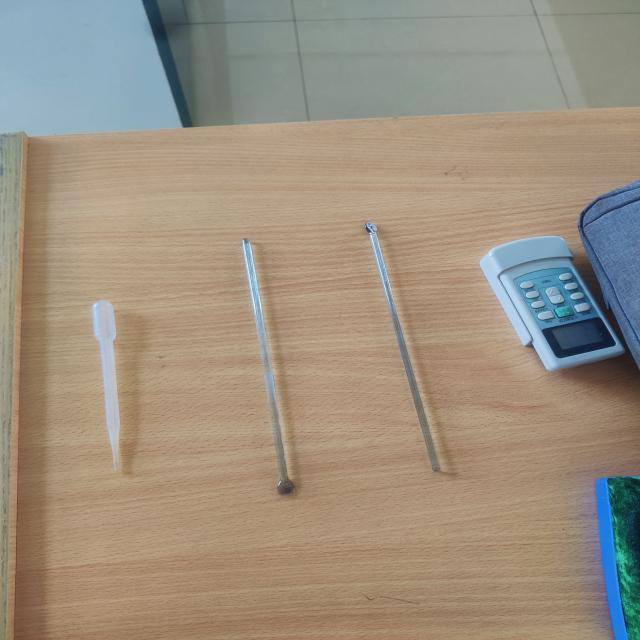Glass_Rod: (344, 216, 481, 502), (214, 211, 336, 527)
Pipette: (64, 282, 178, 488)
